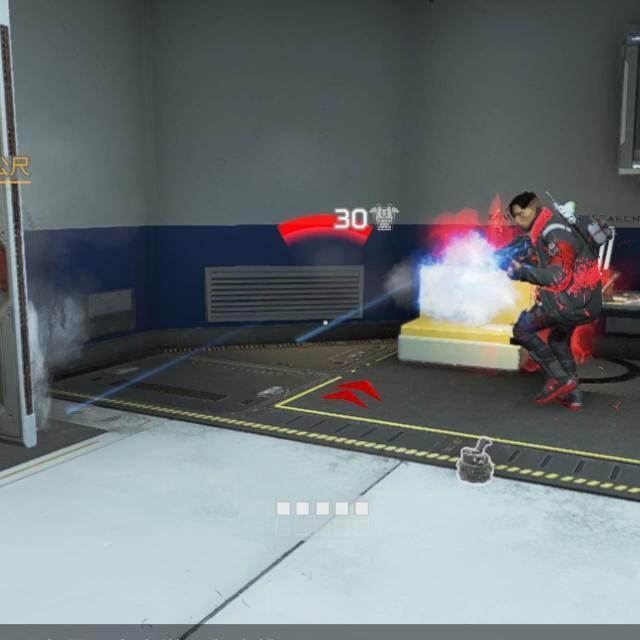avatar: (506, 188, 605, 413)
